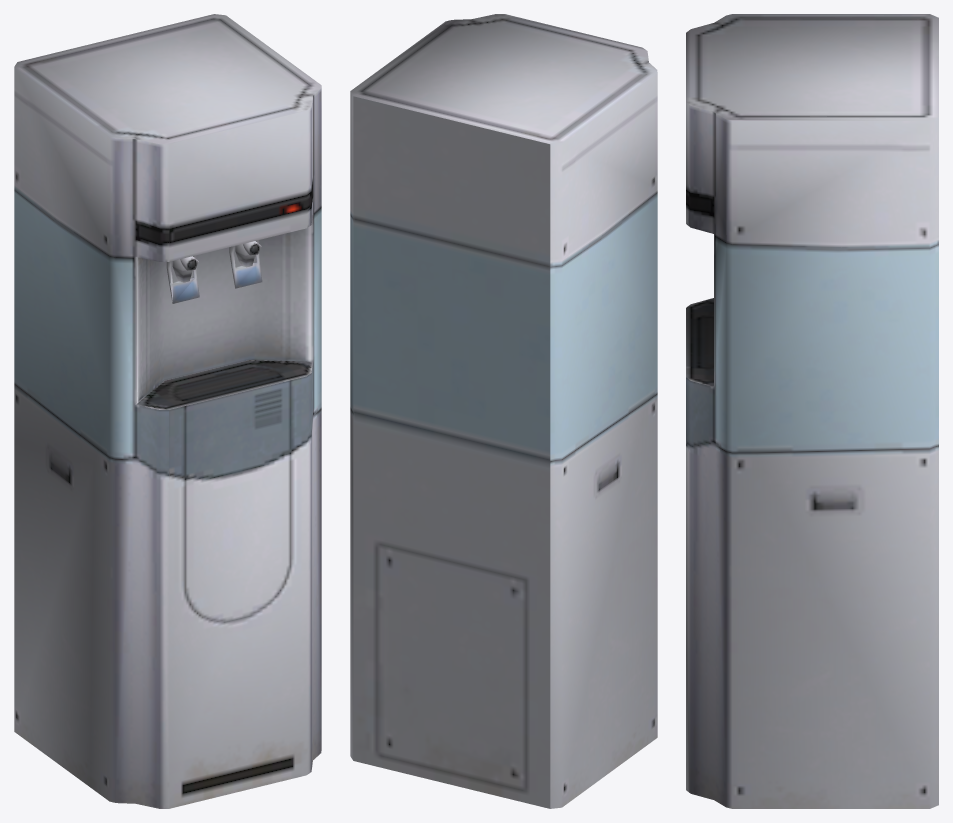
Rendered from WaterCooler.FBX.
3 renders of one model, left to right at view 1: azimuth 30°, elevation 25°; view 2: azimuth 150°, elevation 25°; view 3: azimuth 270°, elevation 25°, orthographic. The views are drawn at different scales.
Visible parts, largest first — view 1: WaterCooler; view 2: WaterCooler; view 3: WaterCooler.
Part boxes in pixels (<box>): WaterCooler: <box>14,14,321,808</box>; WaterCooler: <box>350,14,657,808</box>; WaterCooler: <box>686,14,938,808</box>.
Size of the model in its own units: 0.5004 by 1.5 by 0.4997.
